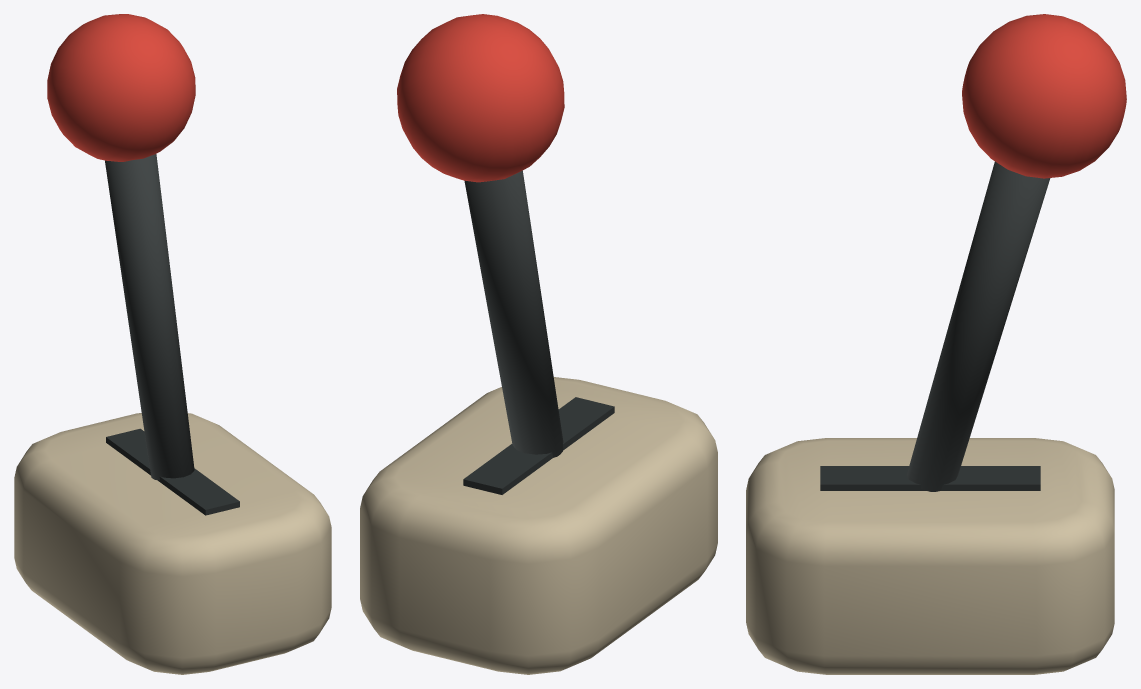
File: lever.glb
3 views of the same model, side by side, from view 1: azimuth 30°, elevation 25°; view 2: azimuth 150°, elevation 25°; view 3: azimuth 270°, elevation 25° (orthographic). The views are drawn at different scales.
Visible parts, largest first — view 1: Housing, Knob, Arm, Slot; view 2: Housing, Knob, Arm, Slot; view 3: Housing, Knob, Arm, Slot.
Part boxes in pixels (left/top/right/bottom): Housing: left=14, top=413, right=331, bottom=674; Knob: left=47, top=14, right=195, bottom=161; Arm: left=105, top=154, right=194, bottom=480; Slot: left=106, top=428, right=239, bottom=515; Housing: left=360, top=377, right=717, bottom=674; Knob: left=397, top=14, right=564, bottom=182; Arm: left=464, top=170, right=563, bottom=457; Slot: left=463, top=397, right=614, bottom=494; Housing: left=746, top=438, right=1114, bottom=674; Knob: left=962, top=14, right=1126, bottom=178; Arm: left=906, top=161, right=1050, bottom=491; Slot: left=820, top=466, right=1040, bottom=490.
Bounding box in the file's own units: 0.094 × 0.2445 × 0.1384.
